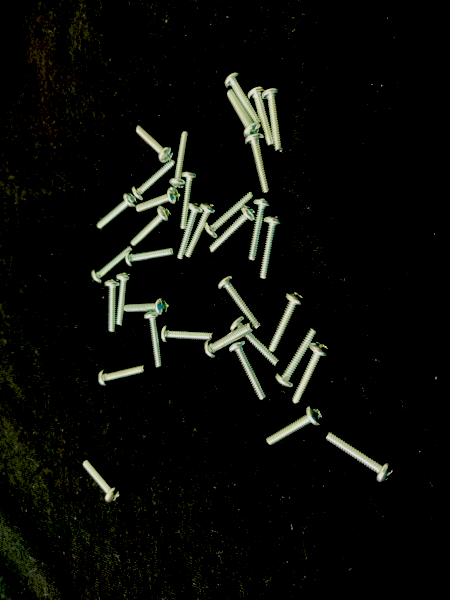longscrew: (326, 432, 396, 484), (275, 327, 320, 389), (230, 316, 281, 368), (218, 275, 263, 331), (292, 342, 331, 405), (205, 191, 255, 240), (229, 340, 268, 401), (209, 206, 257, 255), (268, 291, 305, 354), (266, 406, 324, 446), (224, 71, 261, 124), (132, 159, 177, 202), (226, 88, 262, 139), (186, 202, 218, 259), (82, 460, 123, 504), (205, 323, 254, 359), (130, 207, 173, 248), (91, 245, 136, 284), (248, 85, 275, 147), (259, 214, 284, 280), (245, 132, 271, 194), (134, 125, 175, 164), (247, 198, 272, 261), (177, 203, 204, 261), (96, 194, 139, 229), (262, 87, 284, 153), (168, 131, 191, 189), (98, 363, 149, 387), (135, 188, 181, 214), (180, 171, 200, 230), (144, 311, 164, 369), (161, 324, 216, 345), (125, 247, 176, 269), (115, 272, 134, 327), (104, 279, 123, 333), (124, 298, 170, 317)
